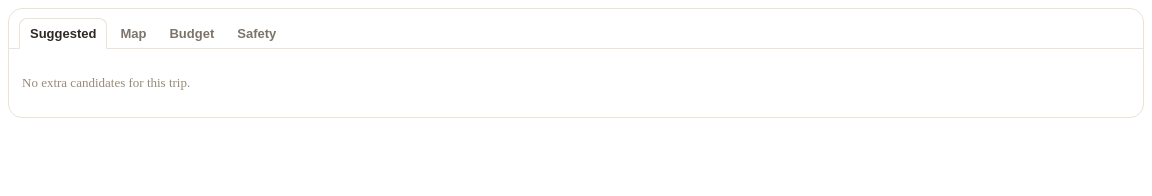
ADV-3: empty / whitespace-only details › per-leg detail "" does not eat an unrelated empty-ish trip advisory; empty trip entries render as blank items
The image size is (1152, 196).
Click the button "Safety". click: [257, 33]
box: [227, 18, 286, 48]
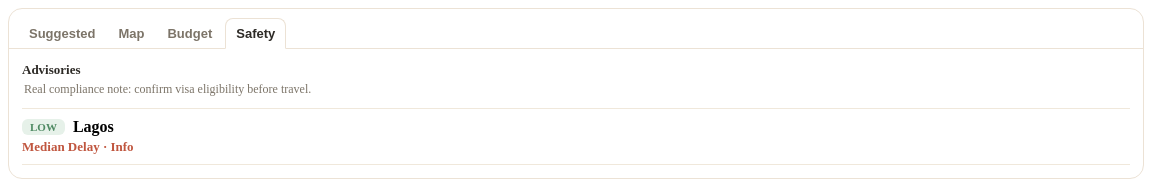
Now the element with test id "trip-advisories" is shown, box [22, 62, 1130, 109]
Now the elements with test id "advisory-item" read "", "Real compliance note: confirm visa eligibility before travel.", in this order, box [22, 80, 1130, 82]; [24, 82, 311, 96]
